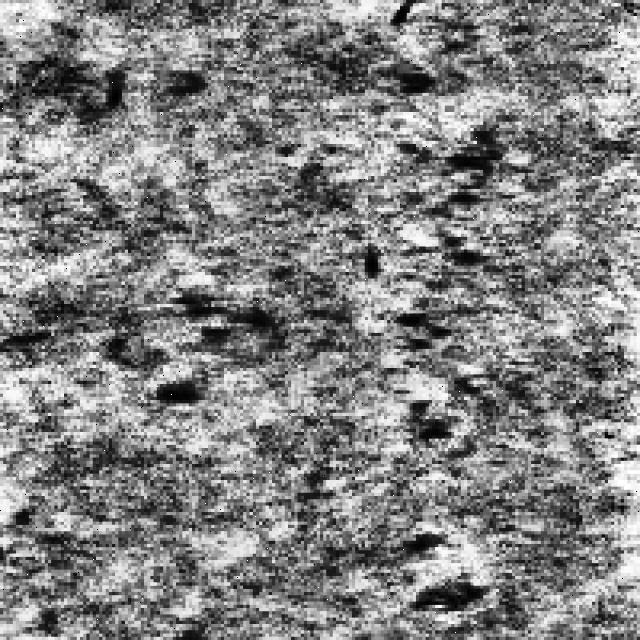Crazing: (355, 108, 499, 618), (132, 240, 266, 432)
